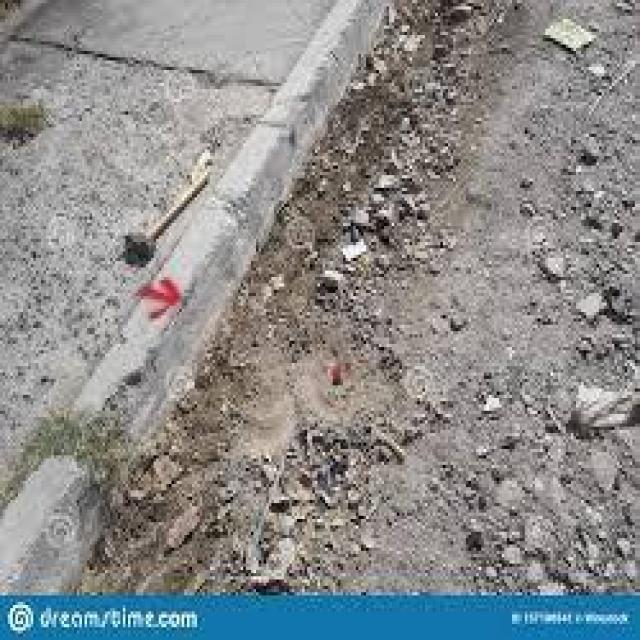bump: (192, 59, 340, 291)
